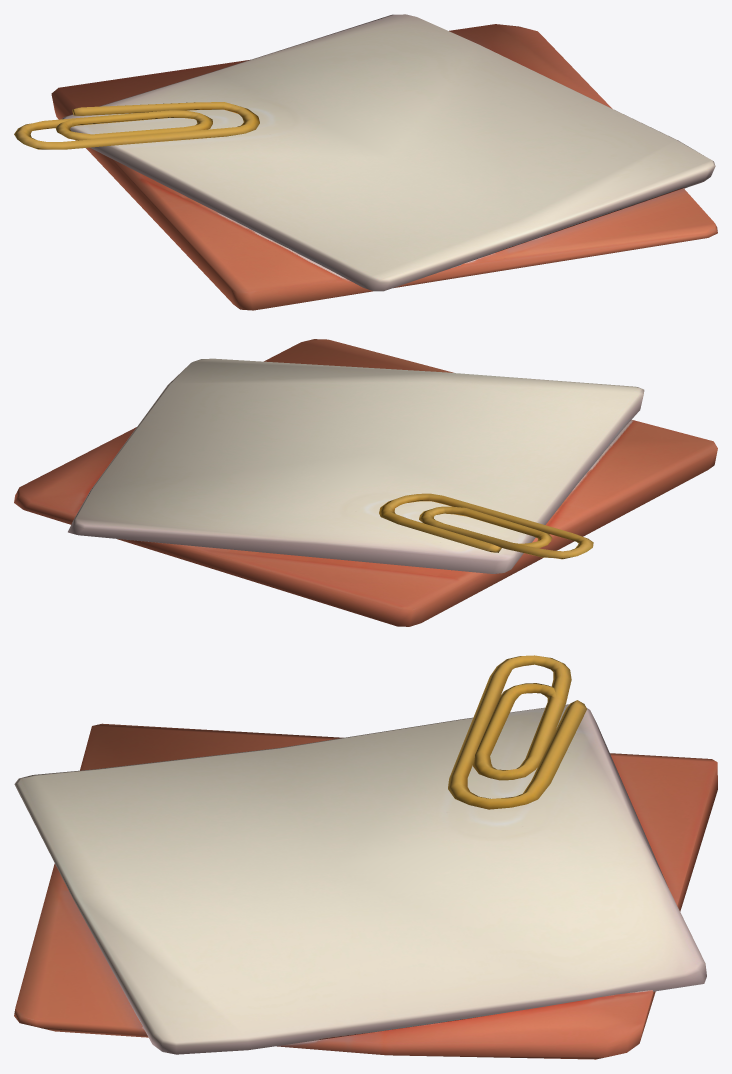
The model's file is tripo_convert_46c25573-e30e-4ec5-b3ca-1653309da534.fbx.
3 renders of one model, top to bottom at view 1: azimuth 30°, elevation 25°; view 2: azimuth 150°, elevation 25°; view 3: azimuth 270°, elevation 25°, orthographic. The views are drawn at different scales.
Parts seen in each view (by area): view 1: tripo_node_46c25573; view 2: tripo_node_46c25573; view 3: tripo_node_46c25573.
Boxes of the visible parts, bbox=[...] form: tripo_node_46c25573: bbox=[14, 14, 717, 310]; tripo_node_46c25573: bbox=[14, 339, 717, 626]; tripo_node_46c25573: bbox=[14, 655, 717, 1059].
Size of the model in its own units: 24.97 by 3.12 by 22.37.
Materials: 1 (1 with a texture image).
